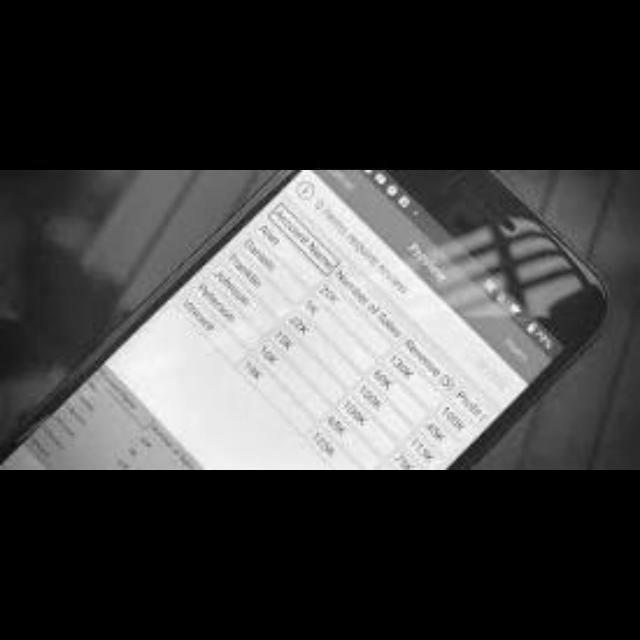fake: (1, 167, 634, 482)
